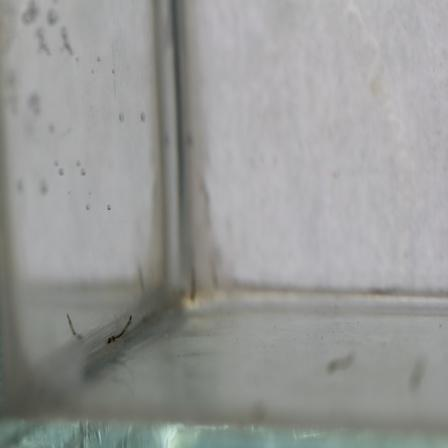Jentik-Nyamuk: (102, 312, 136, 347)
